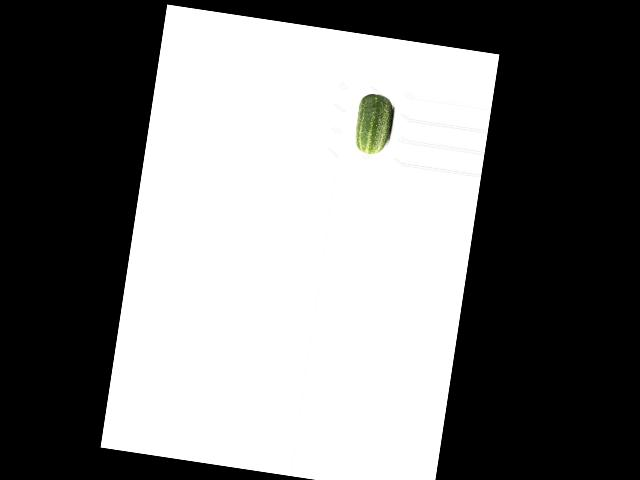cucumber: (352, 91, 396, 155)
